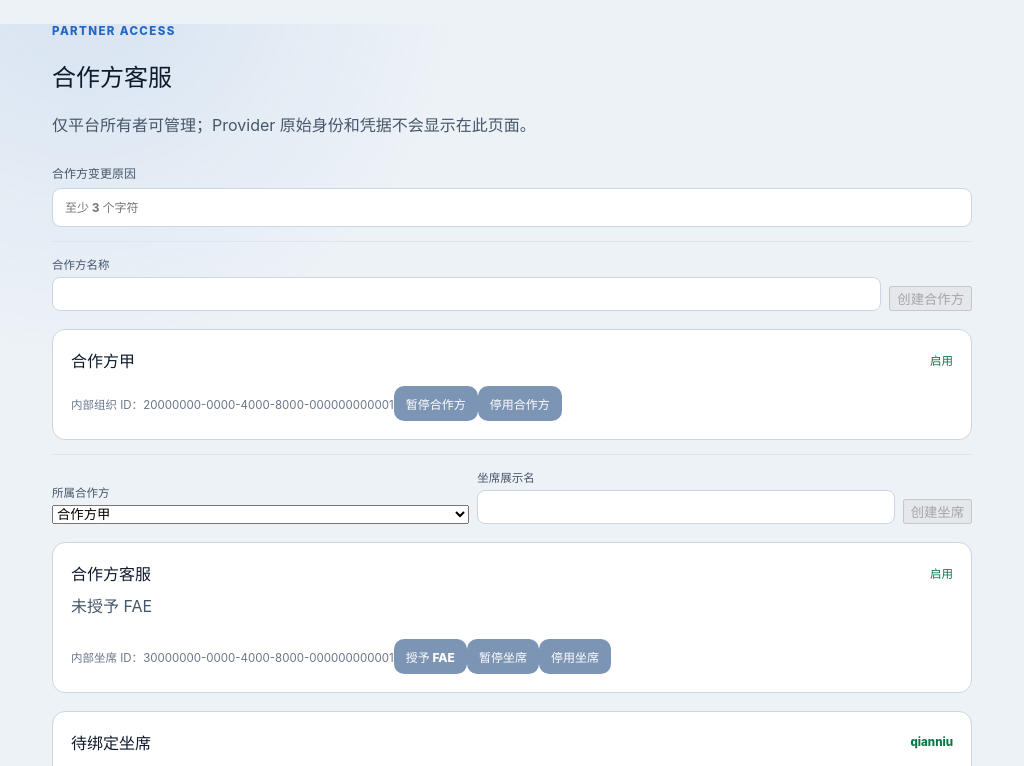
Test: PartnerAccessPanel › keeps confirmed mutations blocked until refresh matches the response
The width and height of the screenshot is (1024, 766).
Type "合作方乙" into the field named "合作方名称".
click(467, 294); type("合作方乙")  # box [52,277,881,311]
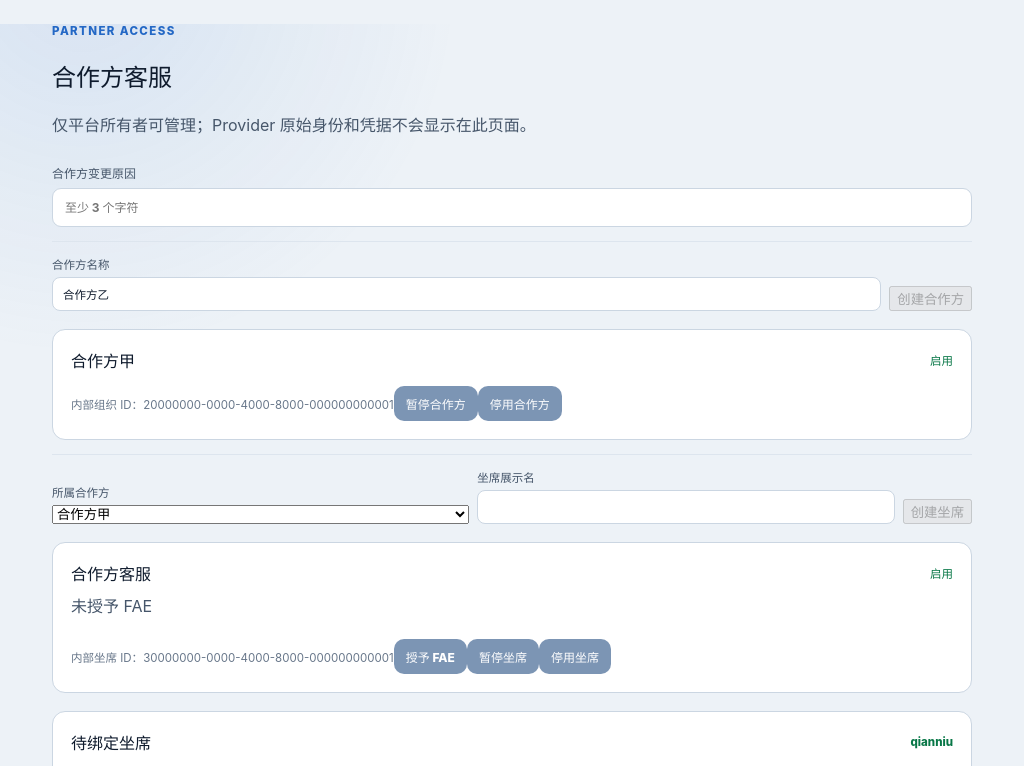
Type "新增试点" into the field named "合作方变更原因".
click(512, 208); type("新增试点")  # box [52,188,972,227]
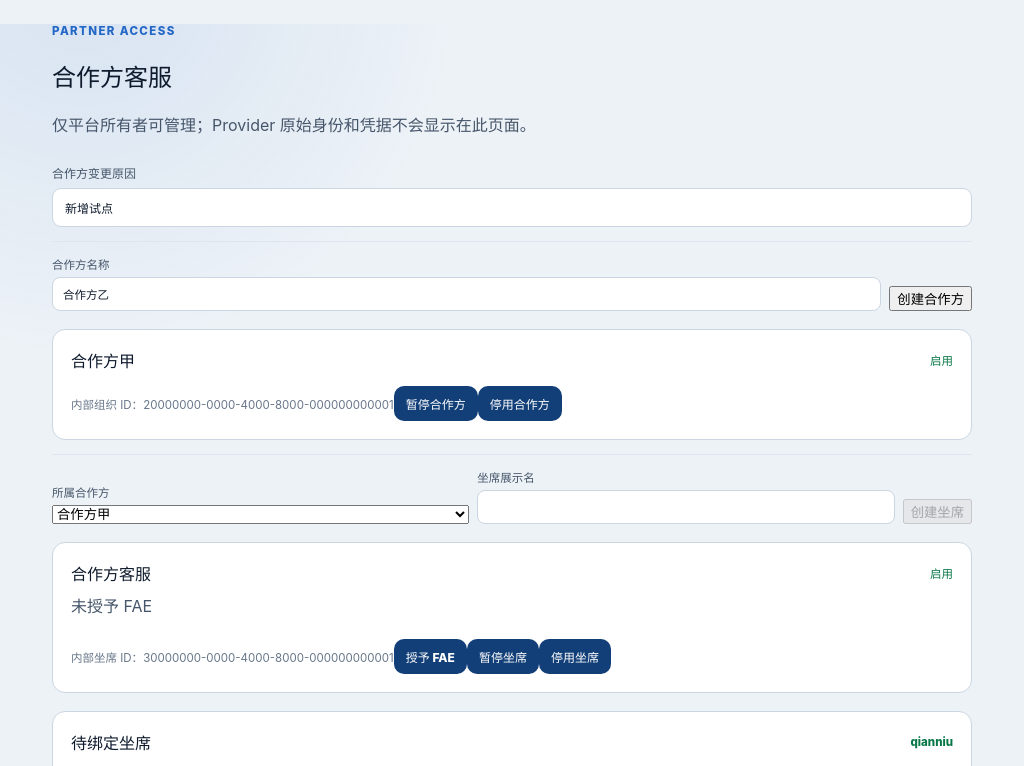
Click the button "创建合作方".
click(931, 299)  # box [889,286,972,311]
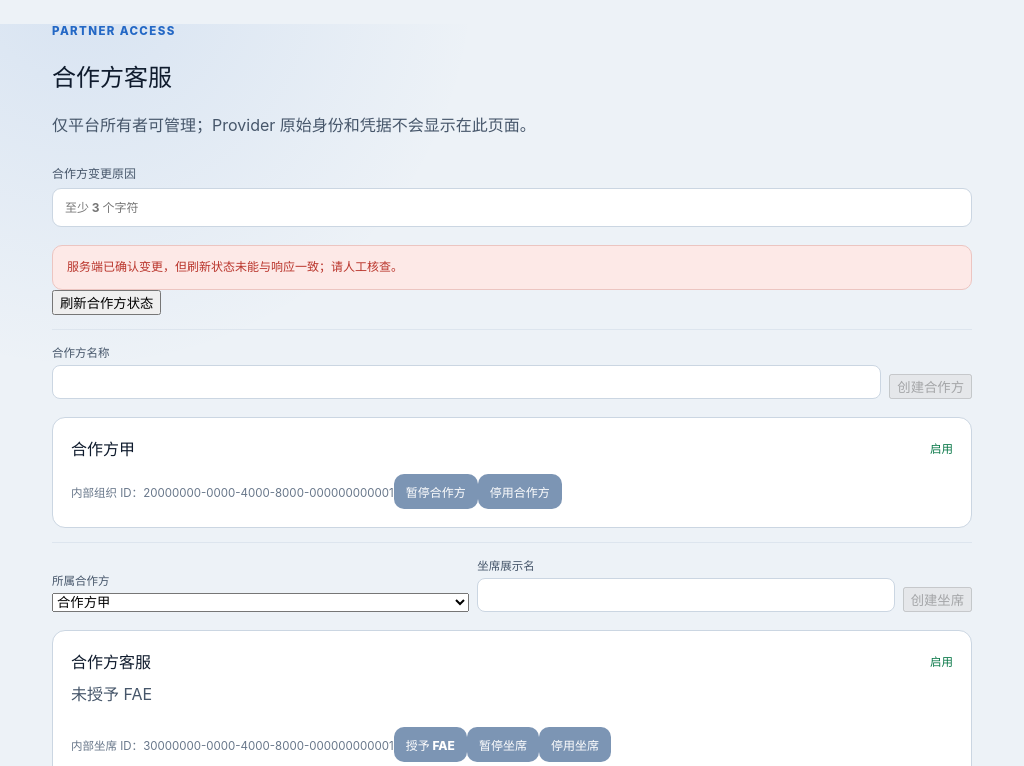
Expected: the text "变更成功" is not shown
Now the text "未能与响应一致" is shown, box [67,259,403,274]
Click the button "刷新合作方状态".
click(107, 302)  # box [52,290,161,315]
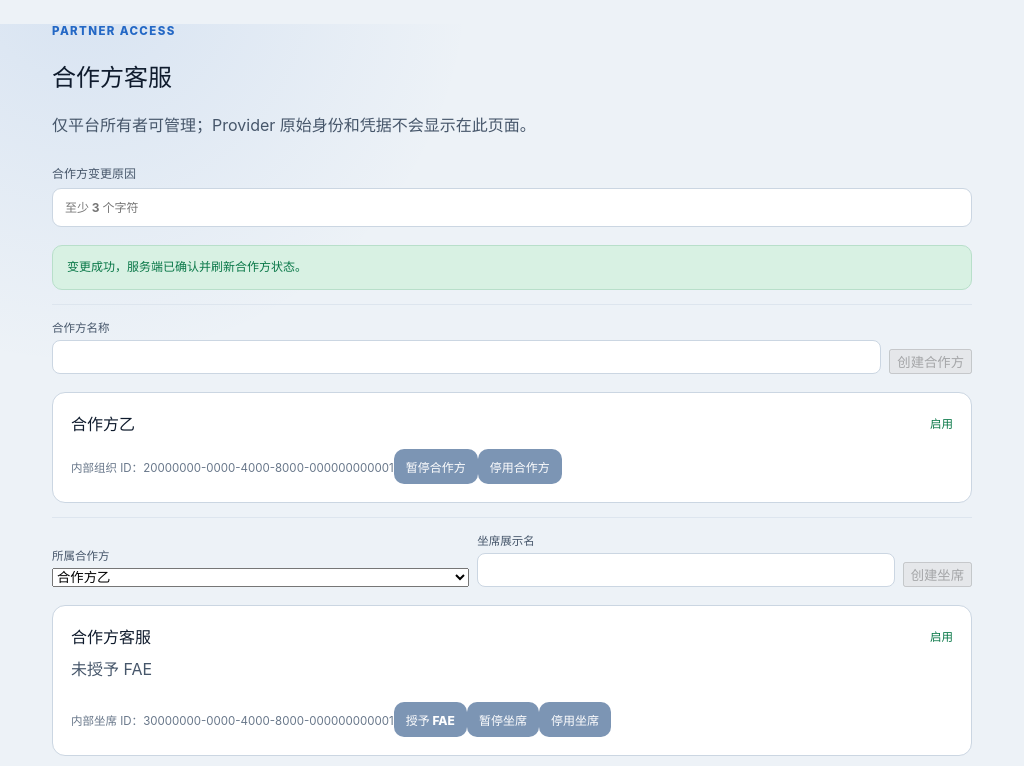
Now the text "变更成功" is shown, box [67,259,307,274]
